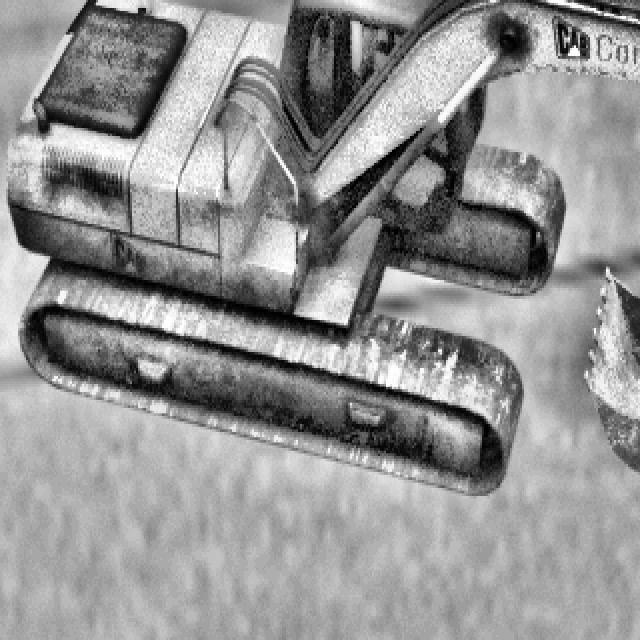excavator: (6, 0, 640, 493)
